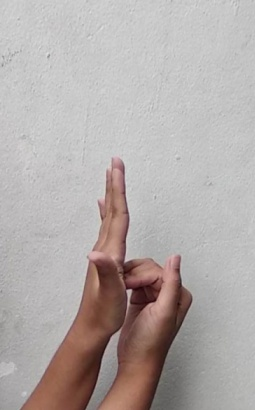ga: (74, 154, 191, 357)
